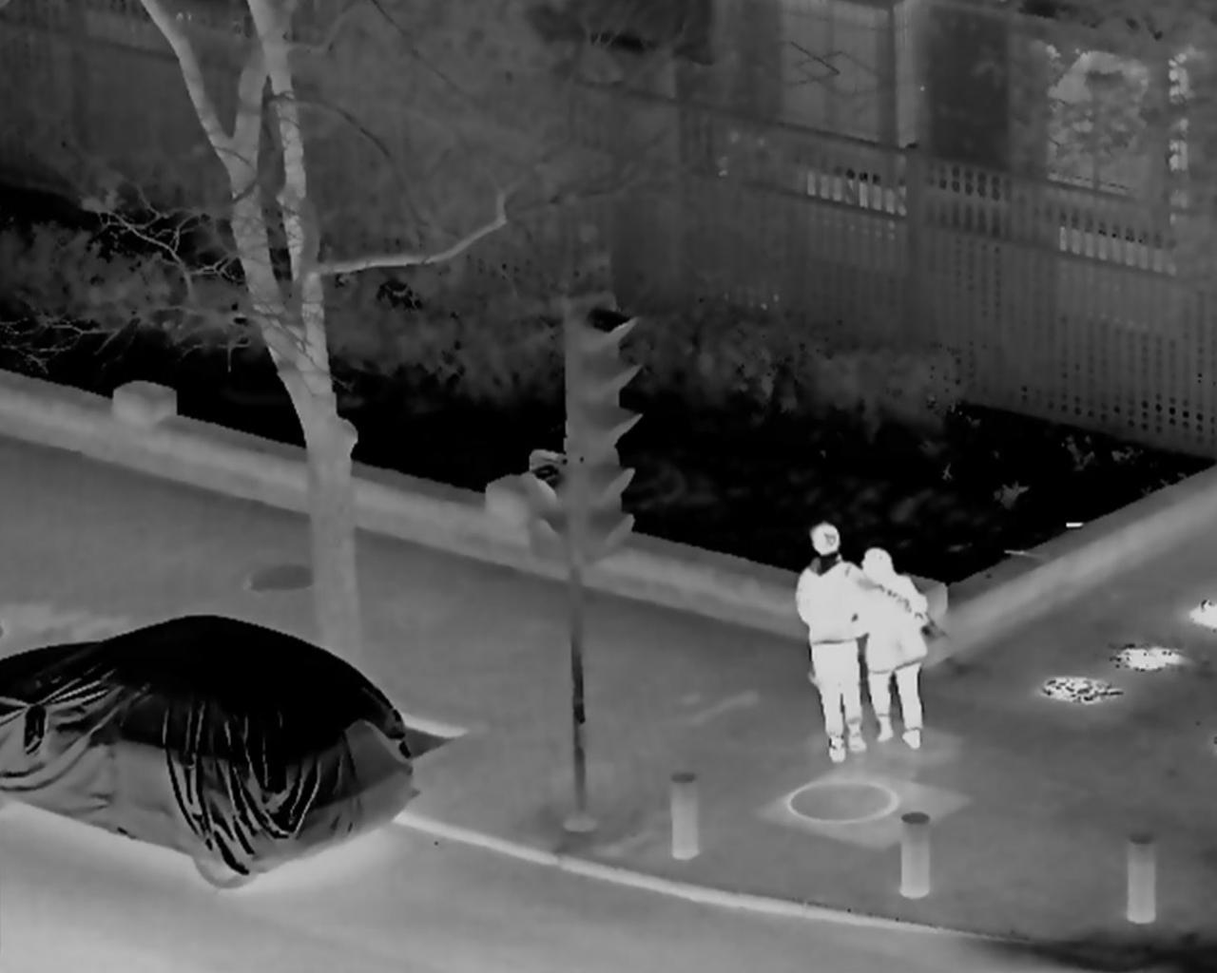person: (796, 523, 886, 760), (860, 548, 936, 751)
